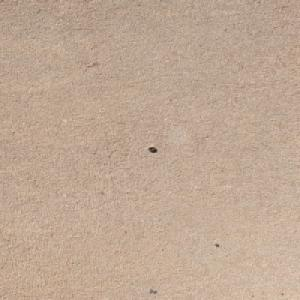Nut: (147, 146, 156, 151)
